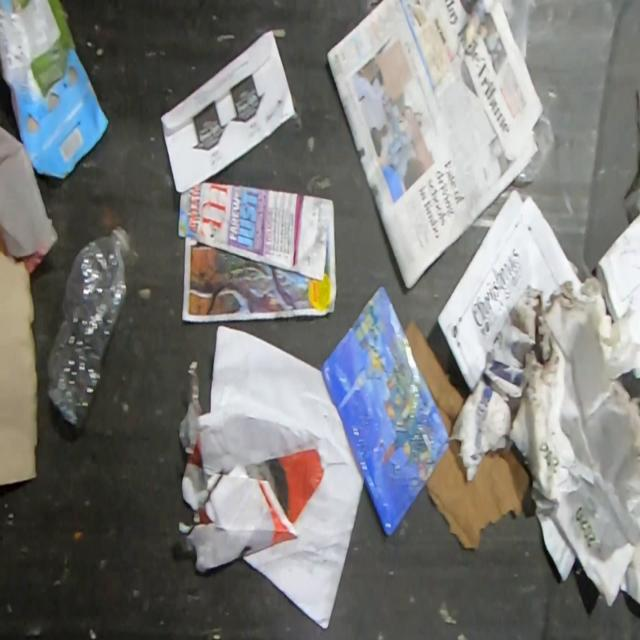cardboard: (426, 438, 532, 551), (403, 317, 467, 437)
rigid_plastic: (44, 221, 134, 433)
soft_plastic: (512, 111, 556, 189)
